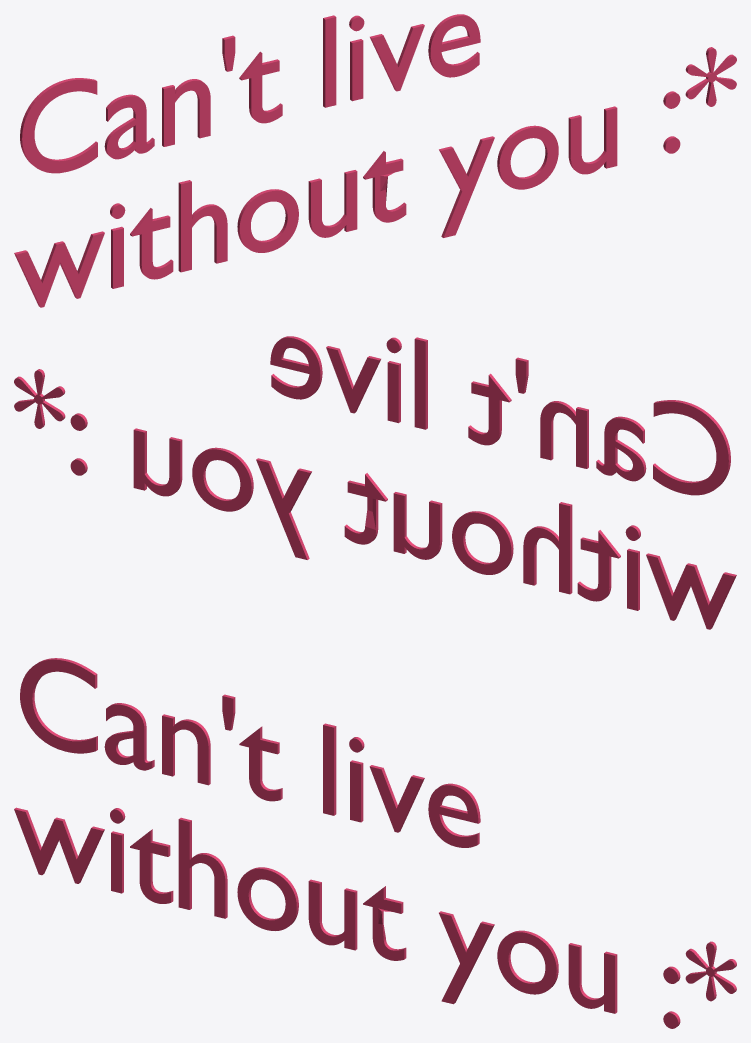
3 views of the same model, one above another, from view 1: azimuth 30°, elevation 25°; view 2: azimuth 150°, elevation 25°; view 3: azimuth 330°, elevation 25° (orthographic).
Visible parts, largest first — view 1: Text; view 2: Text; view 3: Text.
Boxes of the visible parts, x1,y1,x2,y2 form: Text: [14, 14, 736, 307]; Text: [14, 336, 736, 629]; Text: [14, 658, 736, 1028].
Size of the model in its own units: 5.83 by 1.95 by 0.06.
